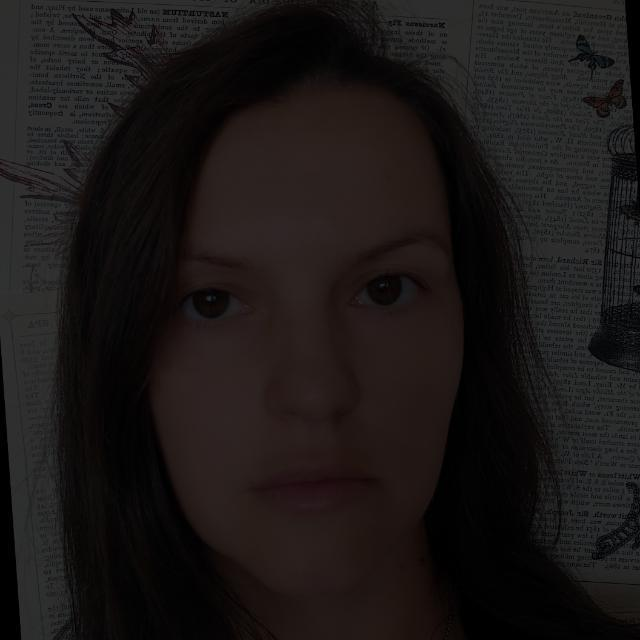Natural: (122, 103, 521, 580)
